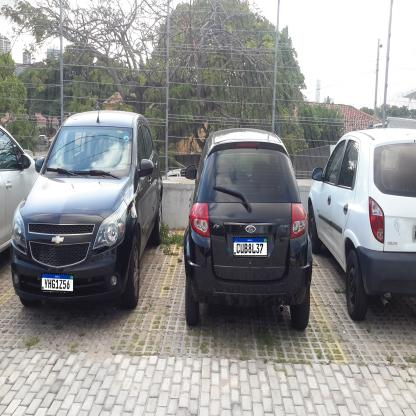PlacaM: (233, 237, 267, 256), (41, 273, 74, 292)
